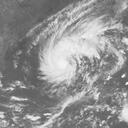cyclone: (37, 13, 124, 90)
